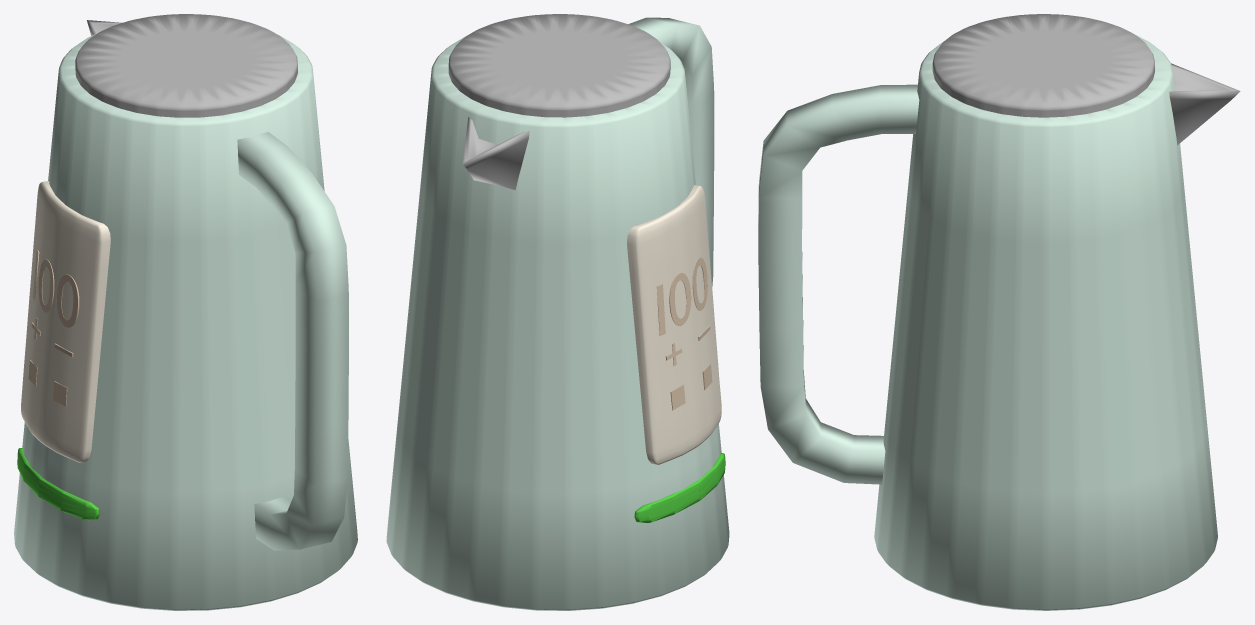
Rendered from teapot.fbx.
3 views of the same model, side by side, from view 1: azimuth 30°, elevation 25°; view 2: azimuth 150°, elevation 25°; view 3: azimuth 270°, elevation 25° (orthographic).
Parts seen in each view (by area): view 1: Цилиндр.002, Куб.006, Цилиндр.003, Куб.005, Куб.007, Text.003; view 2: Цилиндр.002, Цилиндр.003, Куб.005, Куб.006, Куб.004, Куб.007, Text.003; view 3: Цилиндр.002, Куб.006, Цилиндр.003, Куб.004.
Boxes of the visible parts, bbox=[...] form: Цилиндр.002: bbox=[14, 33, 357, 610]; Куб.006: bbox=[237, 131, 348, 550]; Цилиндр.003: bbox=[75, 14, 297, 117]; Куб.005: bbox=[21, 181, 110, 462]; Куб.007: bbox=[17, 448, 99, 520]; Text.003: bbox=[33, 249, 79, 327]; Цилиндр.002: bbox=[386, 36, 729, 610]; Цилиндр.003: bbox=[448, 14, 670, 117]; Куб.005: bbox=[627, 185, 721, 464]; Куб.006: bbox=[628, 17, 714, 286]; Куб.004: bbox=[462, 117, 529, 190]; Куб.007: bbox=[634, 453, 725, 522]; Text.003: bbox=[656, 257, 707, 335]; Цилиндр.002: bbox=[874, 34, 1217, 610]; Куб.006: bbox=[758, 84, 919, 484]; Цилиндр.003: bbox=[932, 14, 1154, 117]; Куб.004: bbox=[1169, 63, 1240, 145].
Size of the model in its own units: 199 by 307 by 280.
